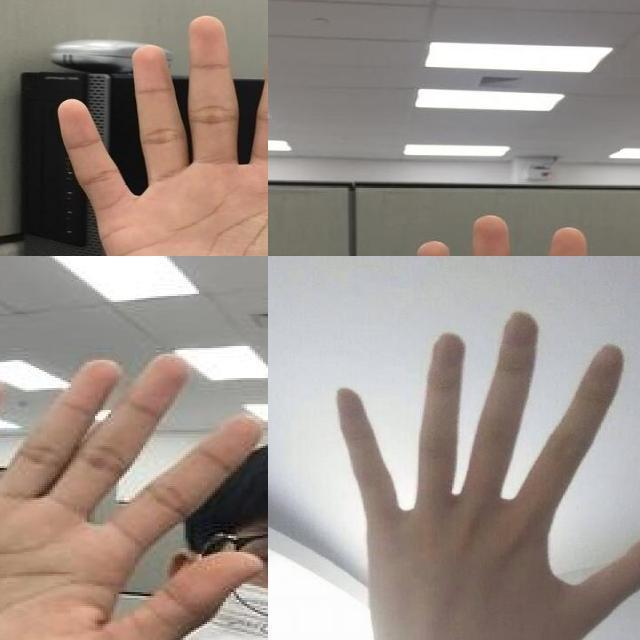no-gloves: (334, 311, 640, 640), (0, 354, 263, 640), (55, 13, 268, 256)
